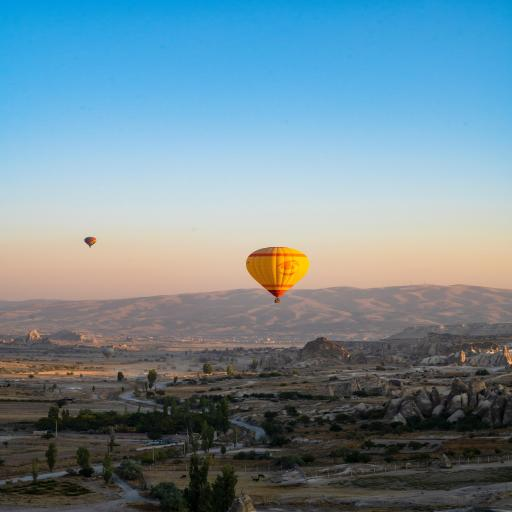hot air ballon: (246, 247, 310, 303), (84, 237, 97, 248)
